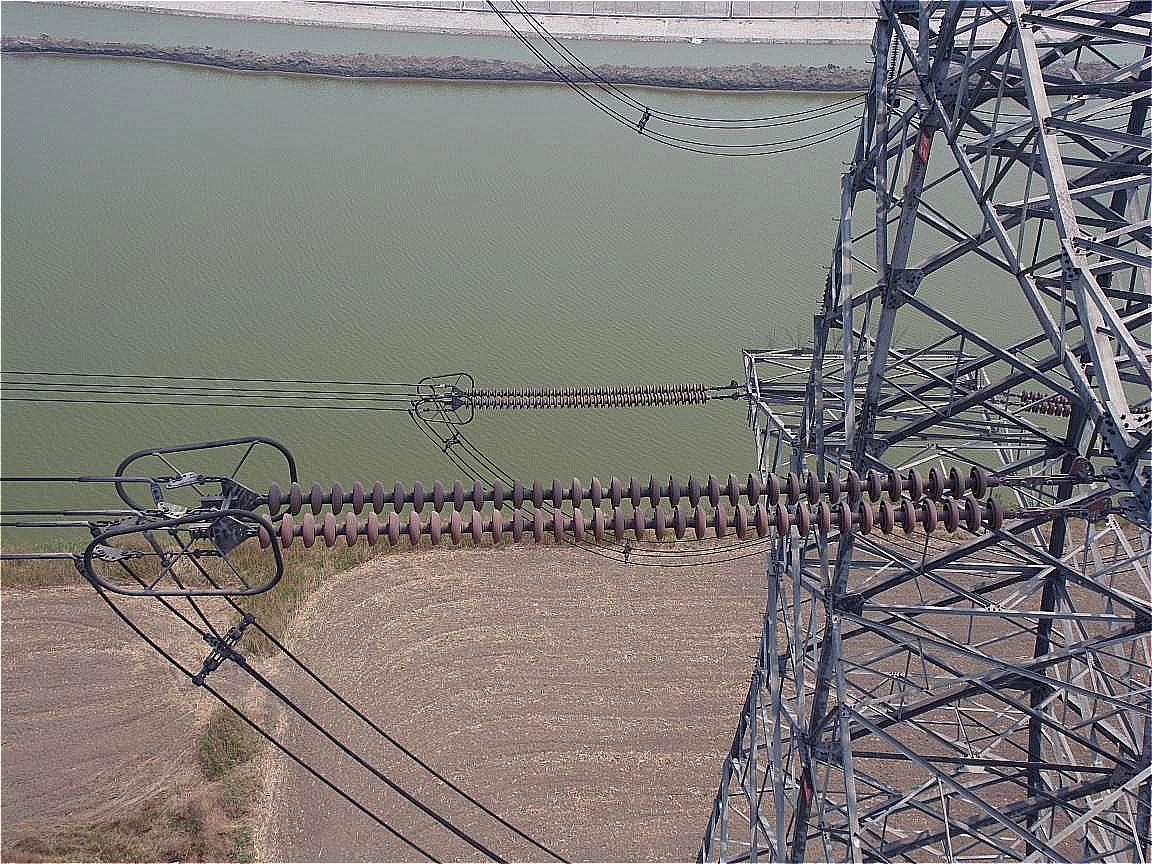insultor1: (257, 464, 1003, 553)
insultor2: (465, 383, 708, 412)
